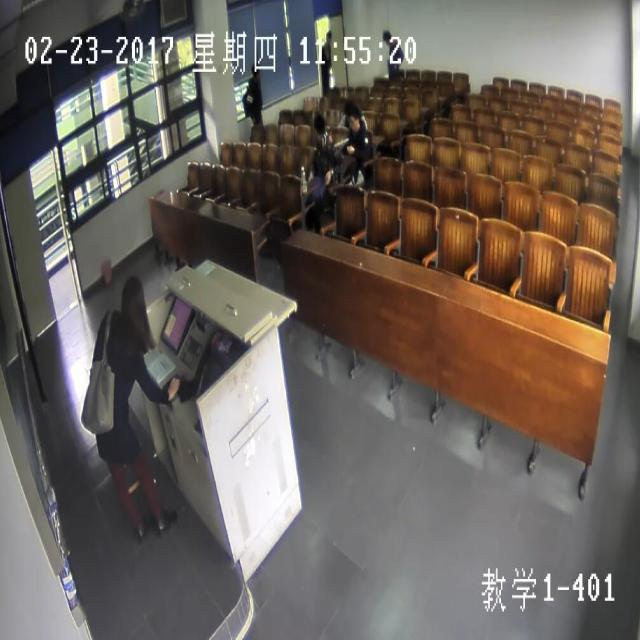person: (122, 281, 146, 334), (346, 108, 363, 130), (313, 118, 327, 144), (380, 28, 396, 45), (249, 61, 263, 78)
